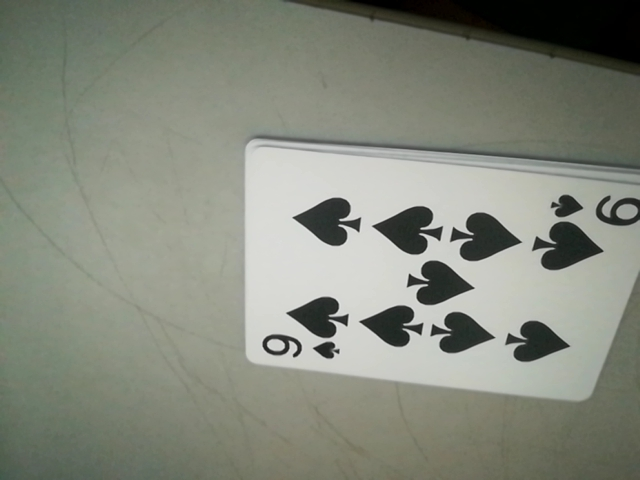ht 9: (253, 331, 350, 368)
